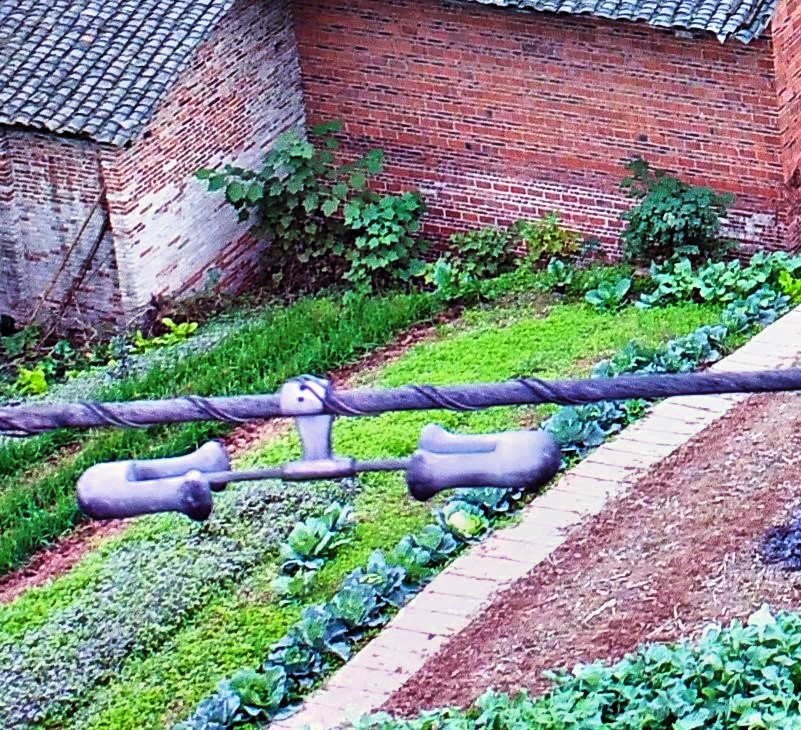Shockproof hammer: (63, 360, 579, 525)
